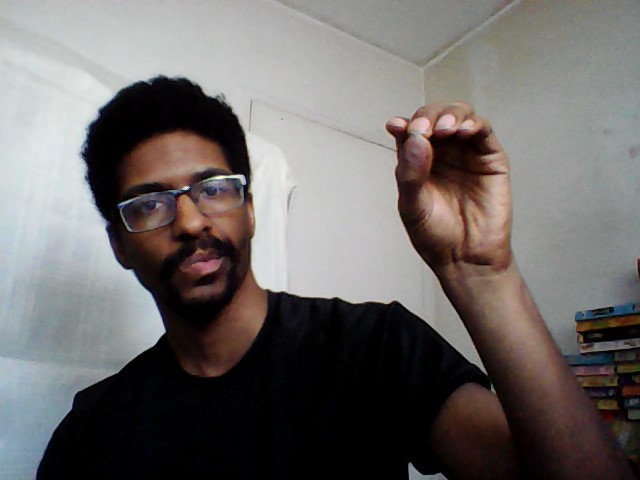o: (379, 98, 518, 274)
